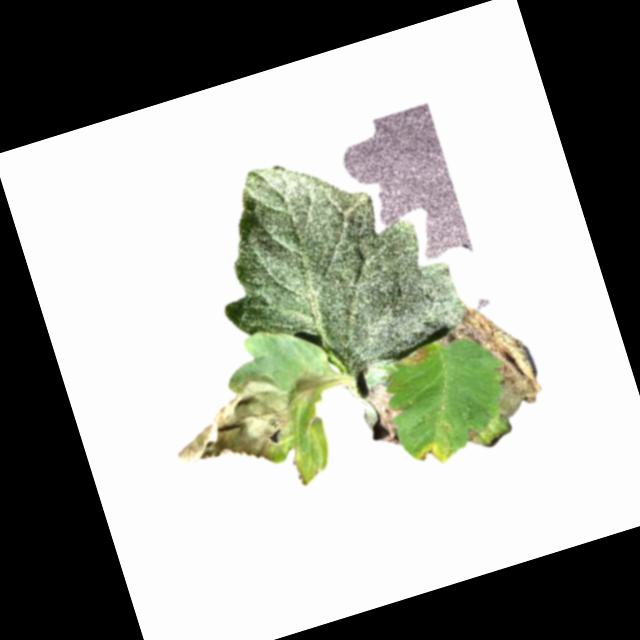Late_blight: (159, 364, 308, 490), (431, 290, 548, 432), (355, 376, 412, 452), (289, 366, 335, 405), (412, 437, 452, 471), (289, 446, 321, 488), (398, 343, 436, 370), (462, 422, 485, 448)
healthy: (187, 121, 471, 399)
